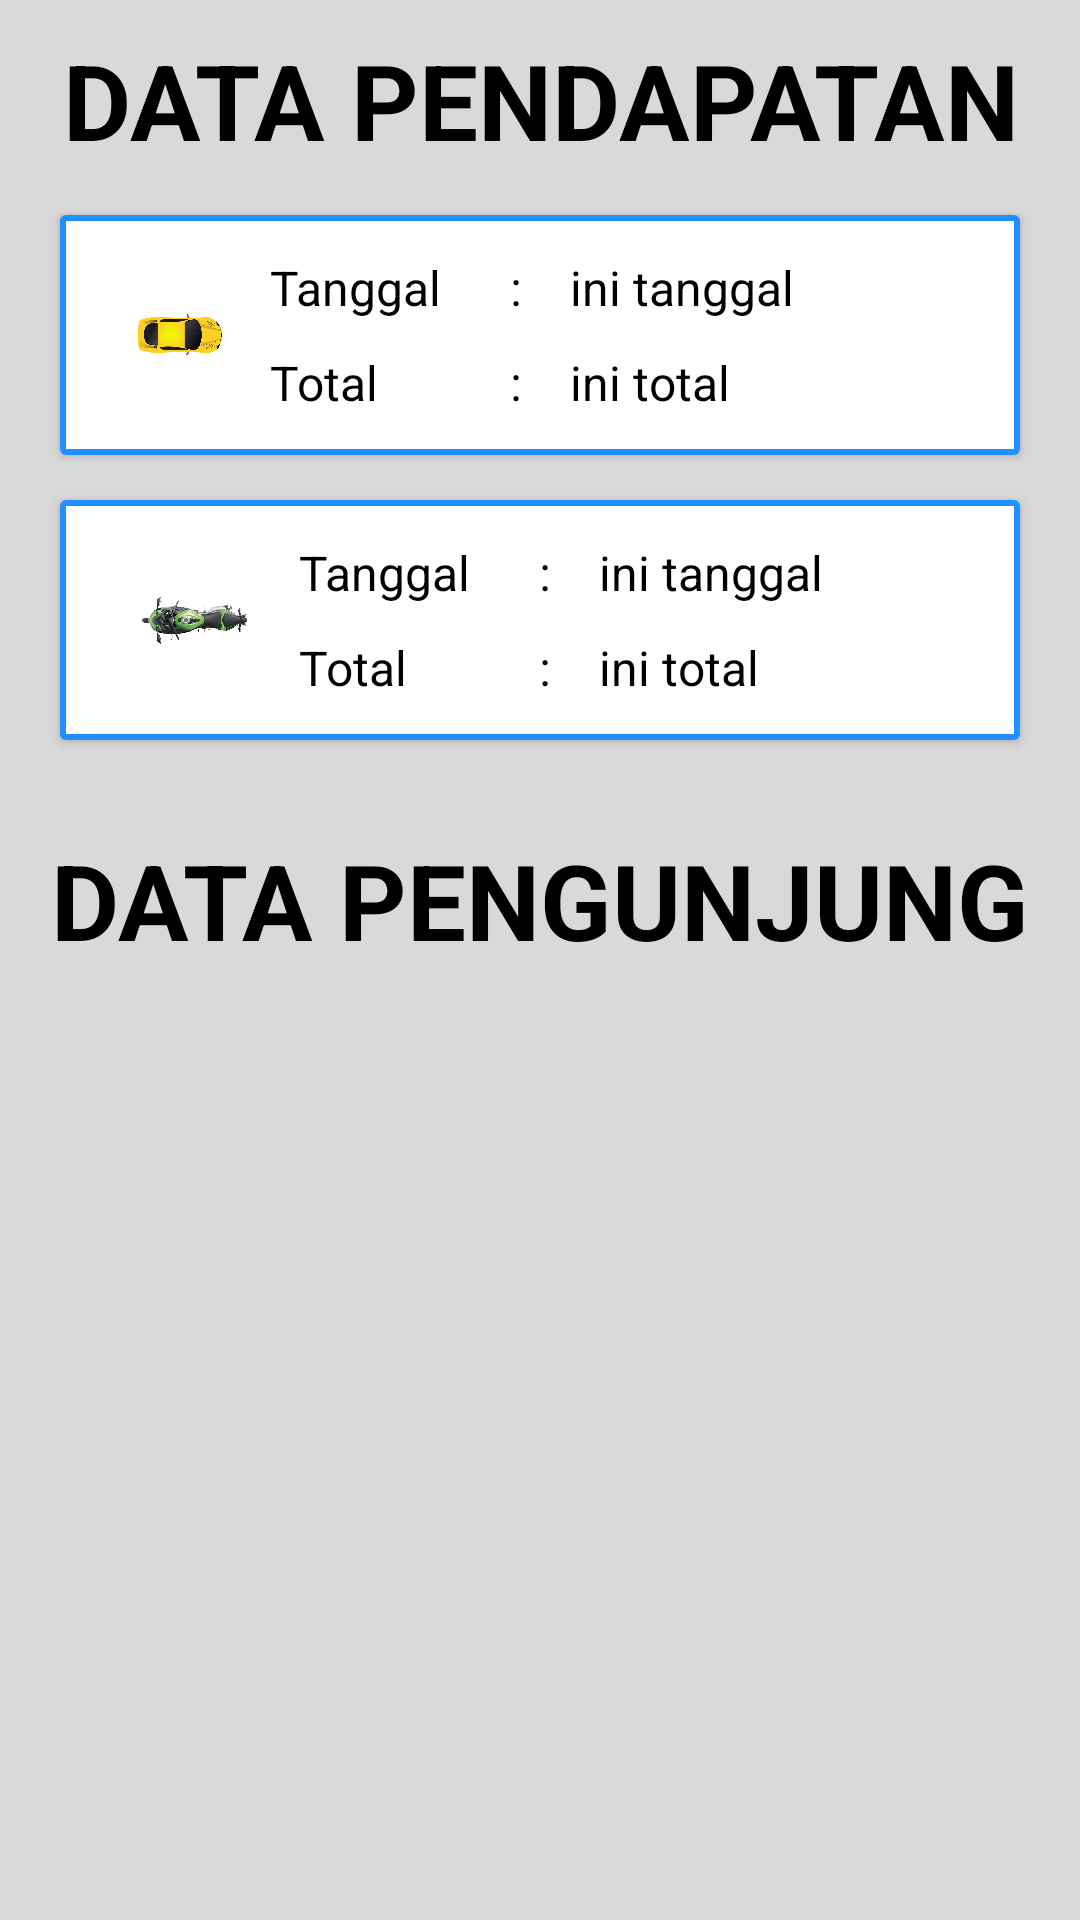

Where icons sit on this 1080px×1920px app screen, as [left=x1, top=y1, right=x2, bottom=y2]:
mobil: [left=138, top=314, right=222, bottom=356]
motor: [left=142, top=597, right=247, bottom=644]
